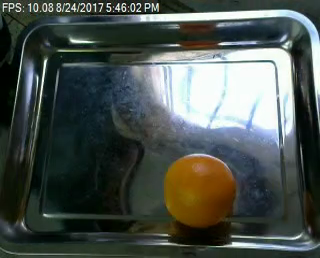Orange: (162, 153, 235, 226)
